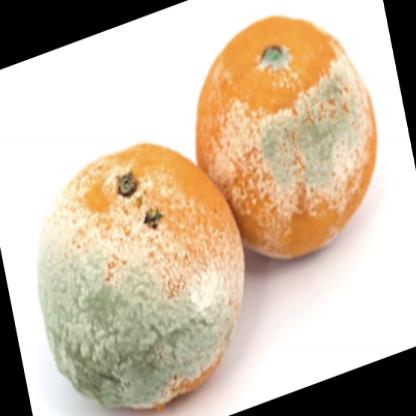rotten_orange: (39, 133, 247, 416), (190, 13, 383, 263)
